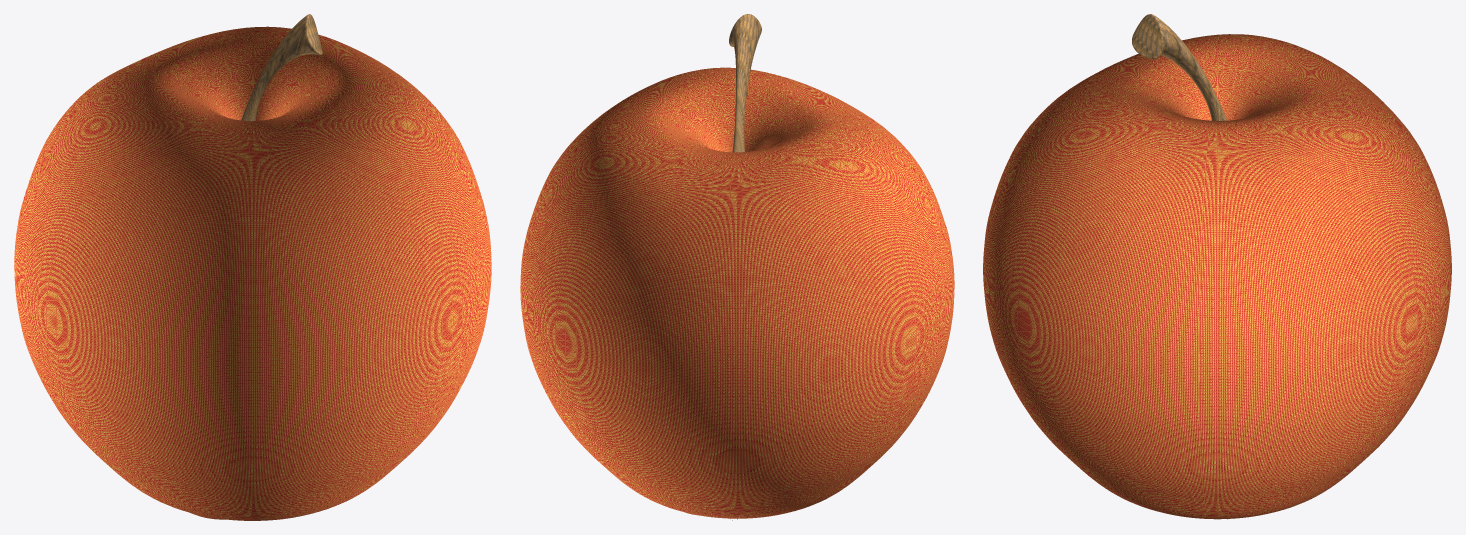
The model's file is Apple-OBJ.obj.
The picture shows the model from 3 angles, left to right: view 1: azimuth 30°, elevation 25°; view 2: azimuth 150°, elevation 25°; view 3: azimuth 270°, elevation 25°; orthographic projection. The views are drawn at different scales.
Parts seen in each view (by area): view 1: Line01, Cylinder01; view 2: Line01, Cylinder01; view 3: Line01, Cylinder01.
Boxes of the visible parts, x1,y1,x2,y2 form: Line01: (14,26,491,520); Cylinder01: (241,14,322,121); Line01: (520,67,954,518); Cylinder01: (729,14,761,152); Line01: (983,34,1451,519); Cylinder01: (1132,14,1226,120).
Bounding box in the file's own units: 26.19 × 31.74 × 26.19.
